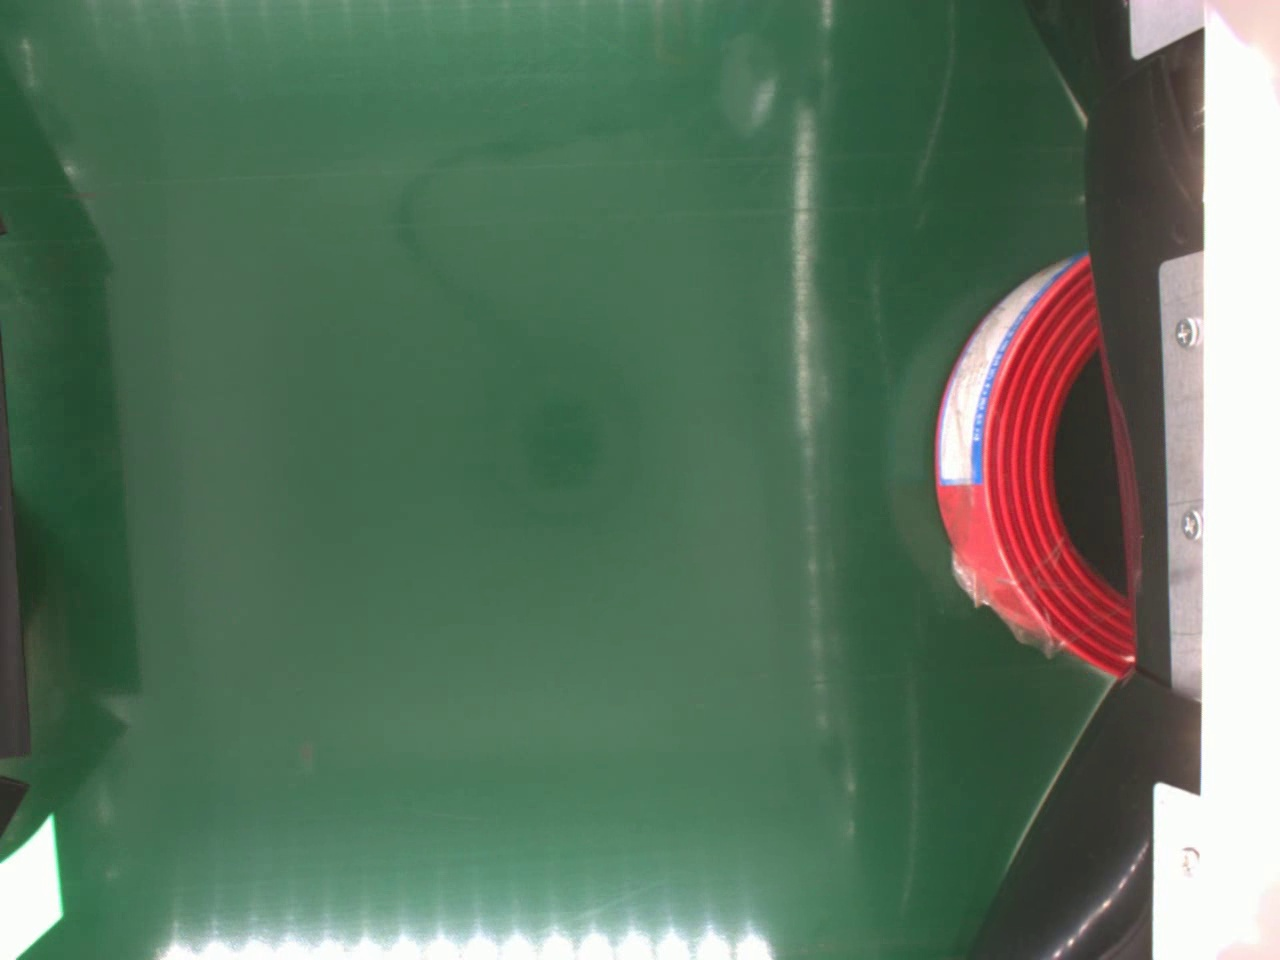red: (931, 249, 1138, 676)
